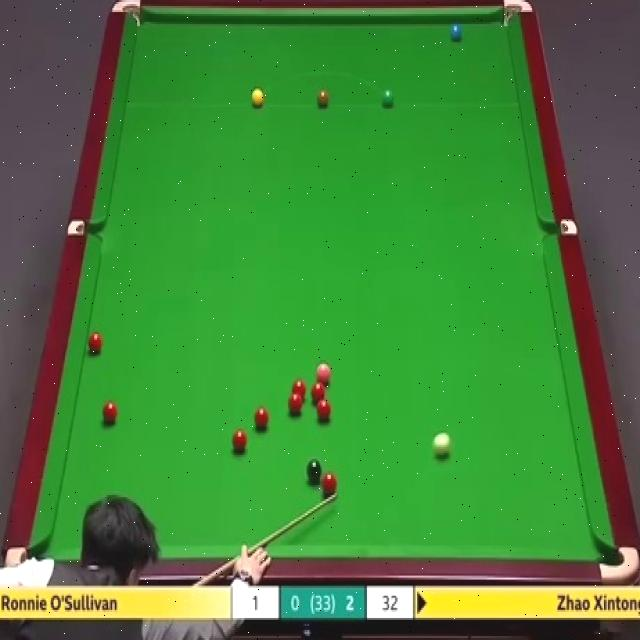black-ball: (306, 458, 323, 488)
blue-ball: (449, 20, 464, 45)
brown-ball: (317, 89, 330, 110)
green-ball: (381, 89, 395, 110)
pink-ball: (313, 361, 331, 385)
red-ball: (100, 398, 118, 428), (231, 430, 249, 457), (253, 406, 270, 430), (322, 473, 339, 497), (287, 393, 303, 417), (87, 331, 102, 356), (290, 379, 307, 400), (317, 398, 331, 422), (310, 383, 326, 402)
white-ball: (432, 430, 451, 460)
yellow-ball: (251, 88, 265, 109)
